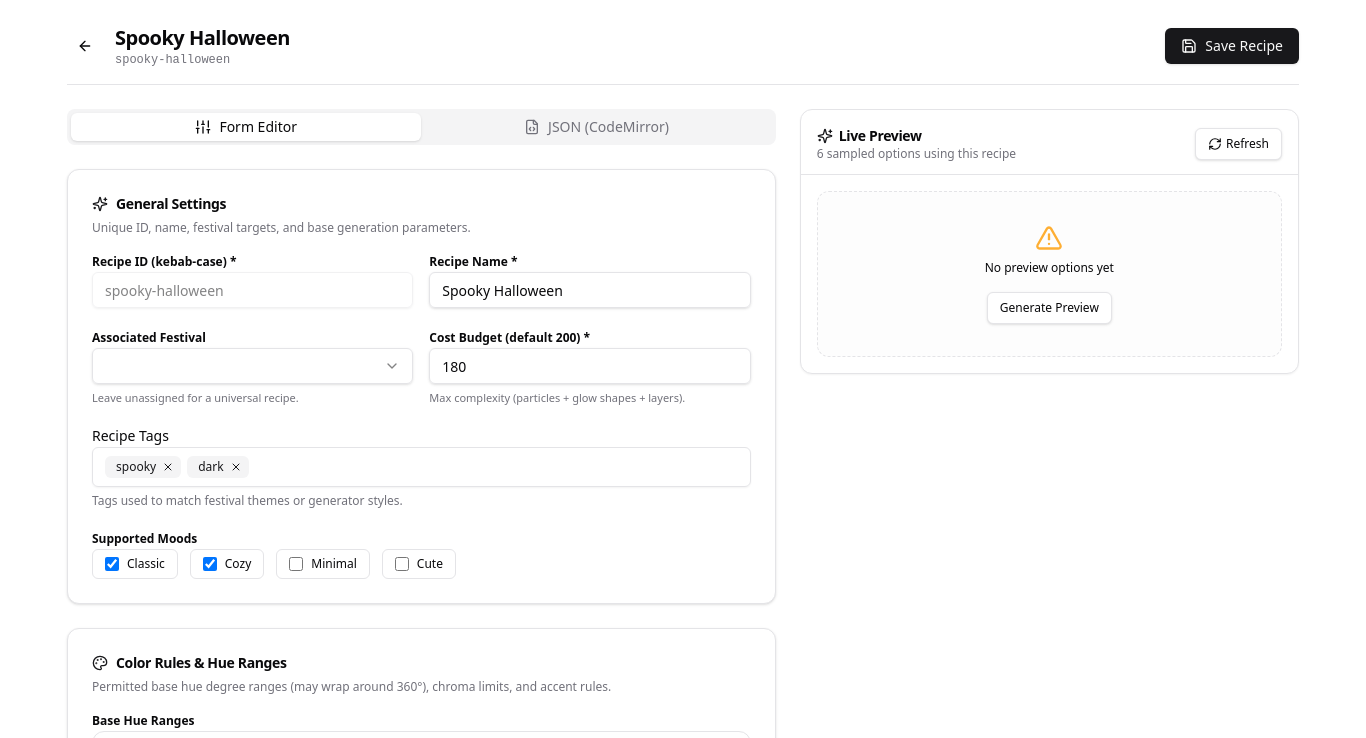
Scenario: Generator Recipes Pages › Recipe Edit Page › renders edit page with tabs and form controls
Expected: the field showing "Spooky Halloween" is shown, [429,272,751,308]
Expected: the field showing "spooky-halloween" is shown, [92,272,413,308]
# Switch to JSON tab
Click the tab "JSON (CodeMirror)".
click(596, 127)  # box [421,113,772,141]
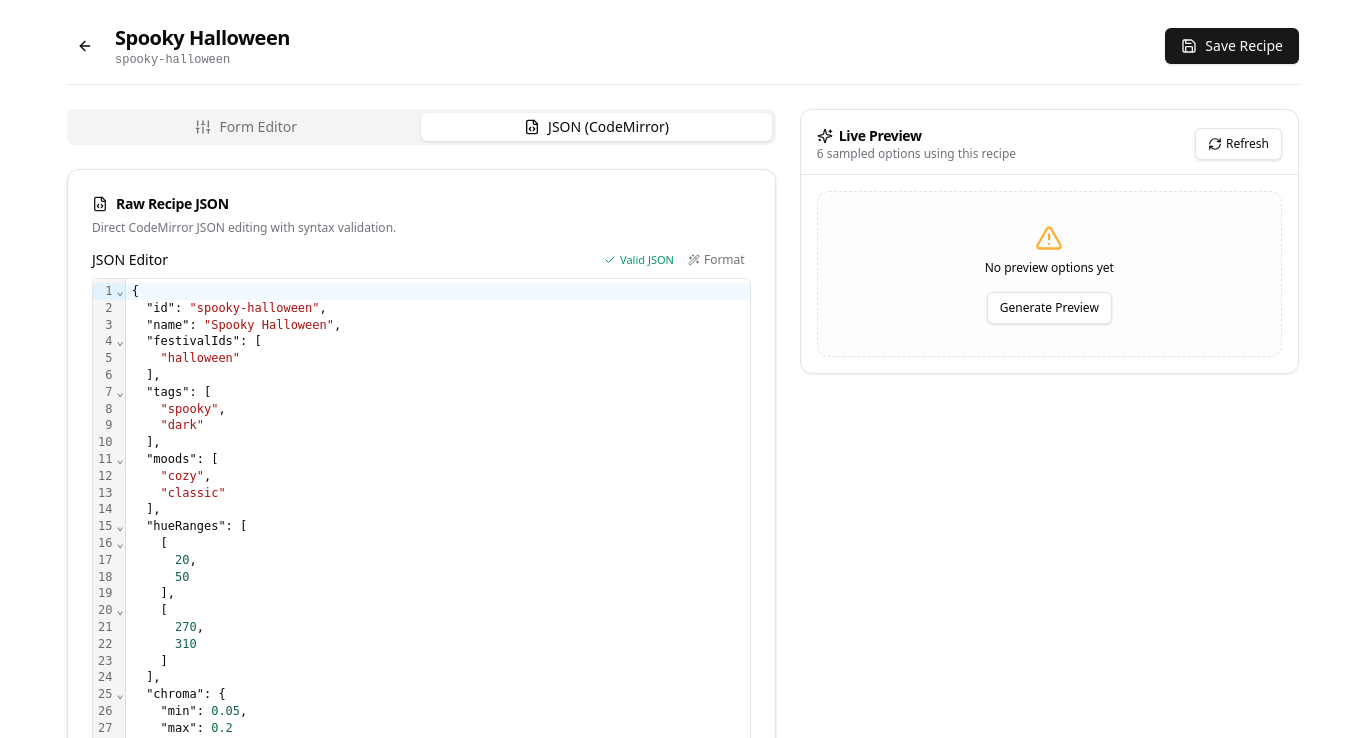
Expected: the heading "Raw Recipe JSON" is shown, [92,194,229,213]
